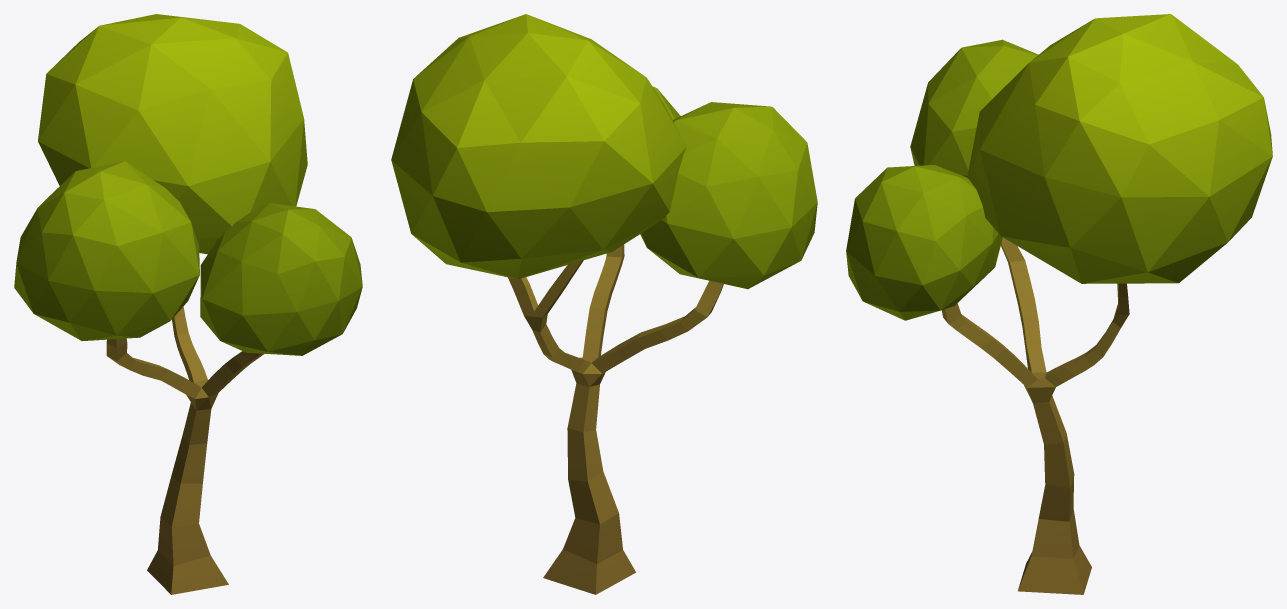
The model's file is tree_1.fbx.
The picture shows the model from 3 angles, left to right: view 1: azimuth 30°, elevation 25°; view 2: azimuth 150°, elevation 25°; view 3: azimuth 270°, elevation 25°; orthographic projection. The views are drawn at different scales.
Parts seen in each view (by area): view 1: tree_1; view 2: tree_1; view 3: tree_1.
Boxes of the visible parts, x1=… form: tree_1: x1=14, y1=14, x2=362, y2=594; tree_1: x1=391, y1=14, x2=817, y2=594; tree_1: x1=846, y1=14, x2=1272, y2=594.
Size of the model in its own units: 4.34 by 6.85 by 4.74.
